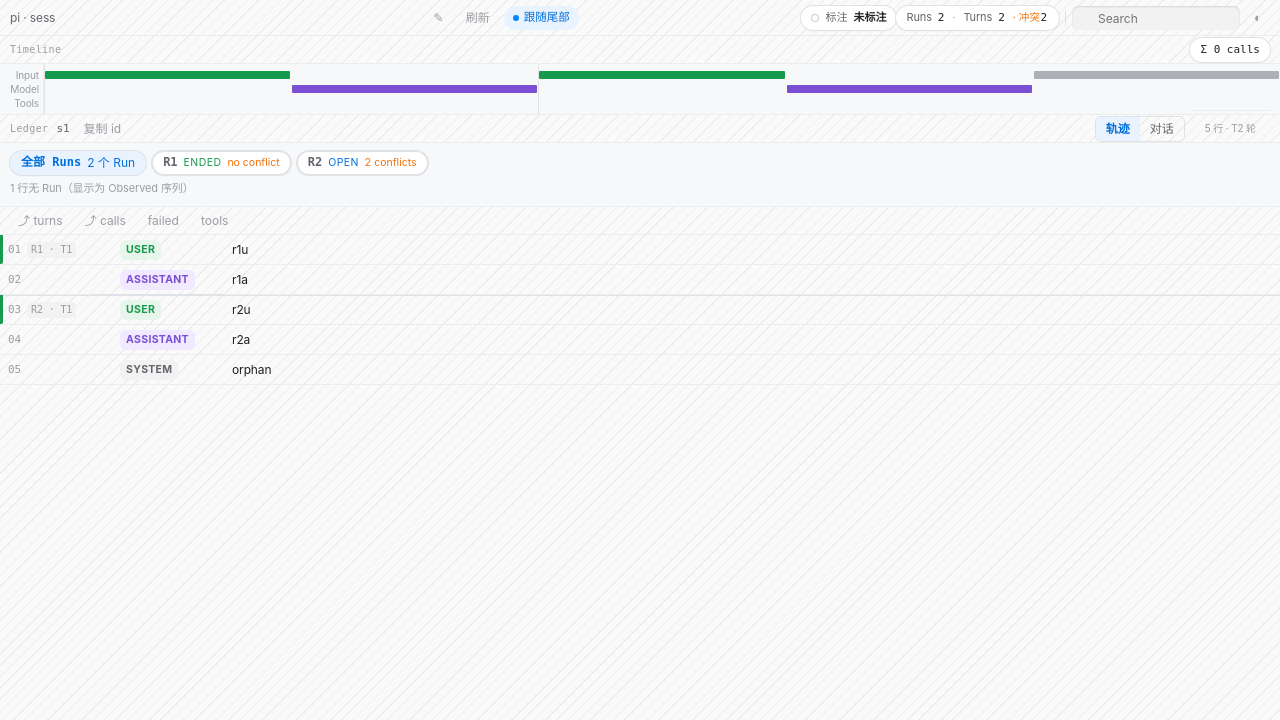
Test: SessionView › reflects selected run id in TopBar badge
Click the text "R1" at [170, 163], box [163,153,178,173]
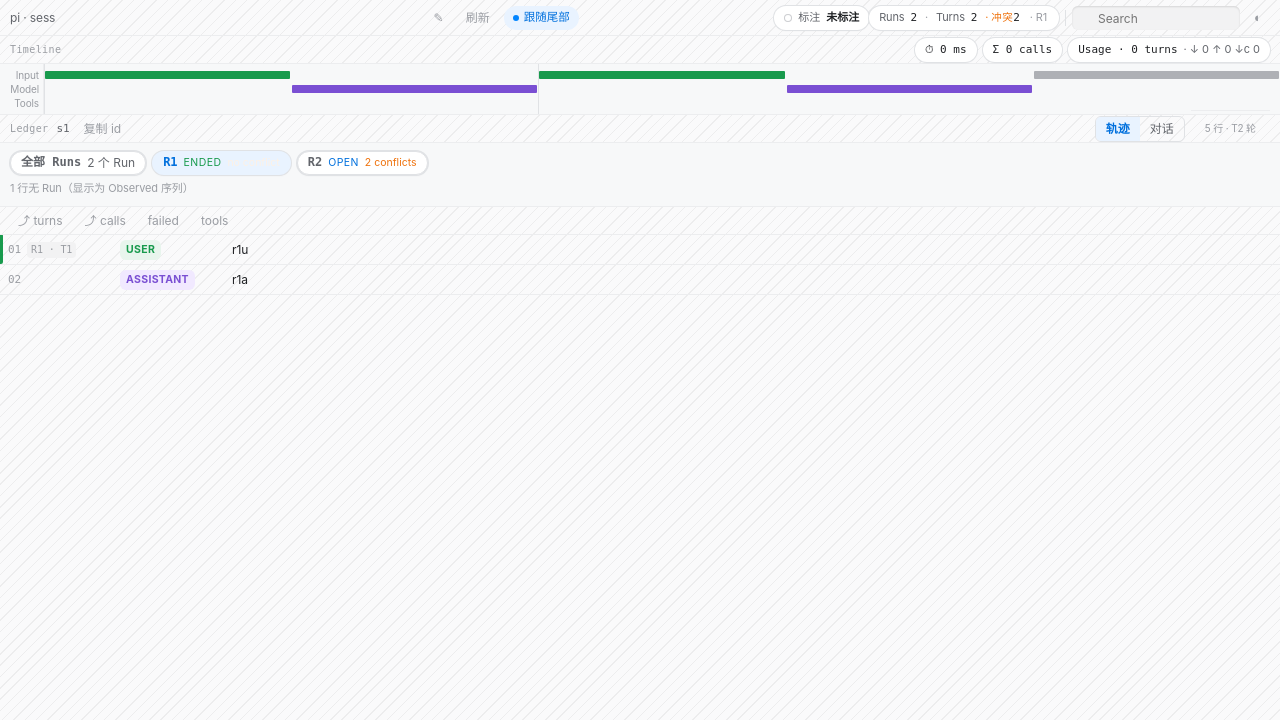
Result: the element with class "stat-badge" reads "Runs 2 · Turns 2 · 冲突2 · R1" at [869,6,1059,30]
